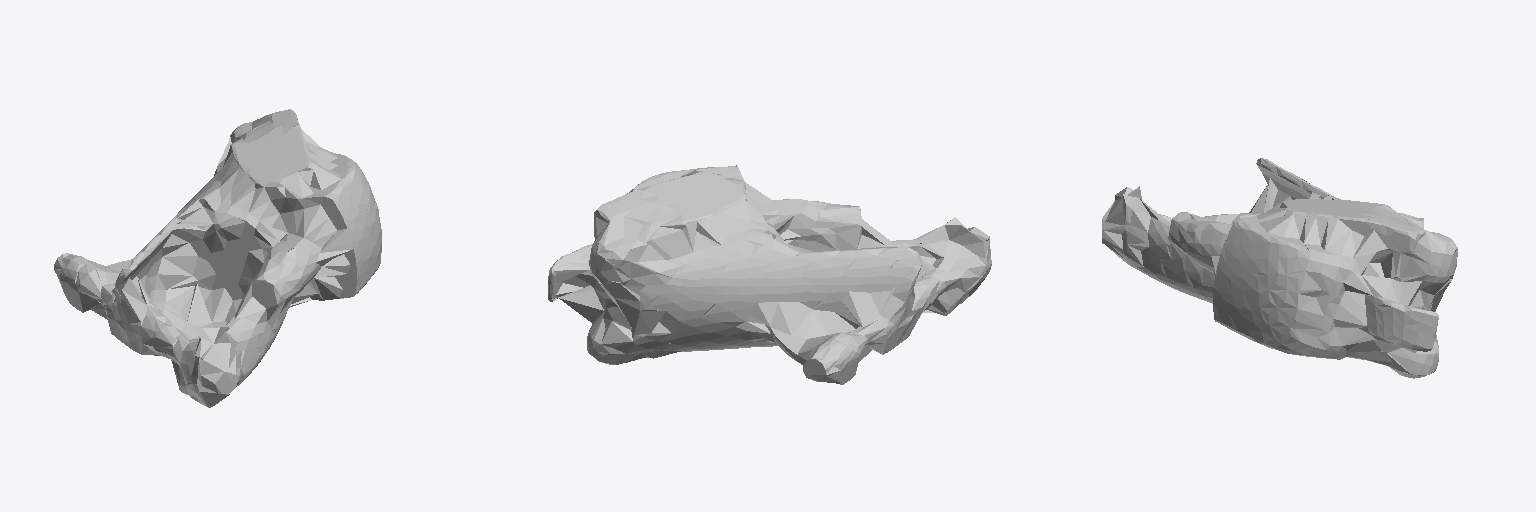
Rendered from sim_ecub_1-0_l_hand_thumb_1.obj.
3 views of the same model, side by side, from view 1: azimuth 30°, elevation 25°; view 2: azimuth 150°, elevation 25°; view 3: azimuth 270°, elevation 25° (orthographic).
Bounding box in the file's own units: 50.02 × 25.56 × 53.05.